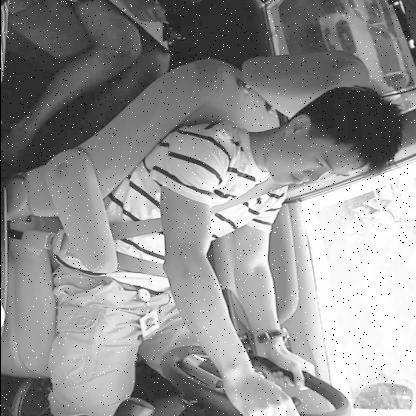seatbelt: (136, 74, 406, 256)
